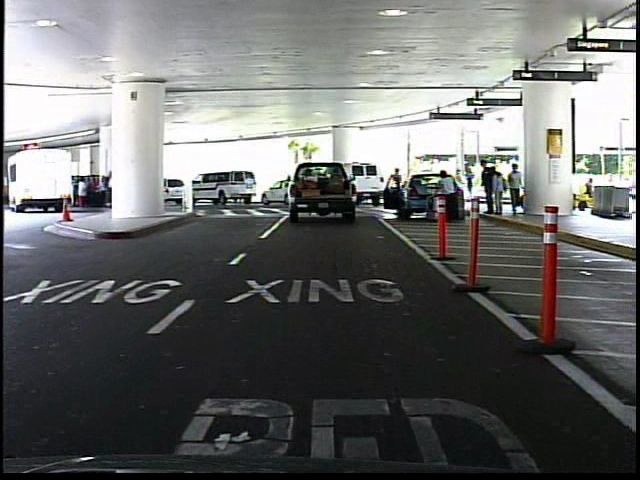person: (436, 163, 460, 220), (505, 159, 527, 216), (389, 165, 406, 207)
